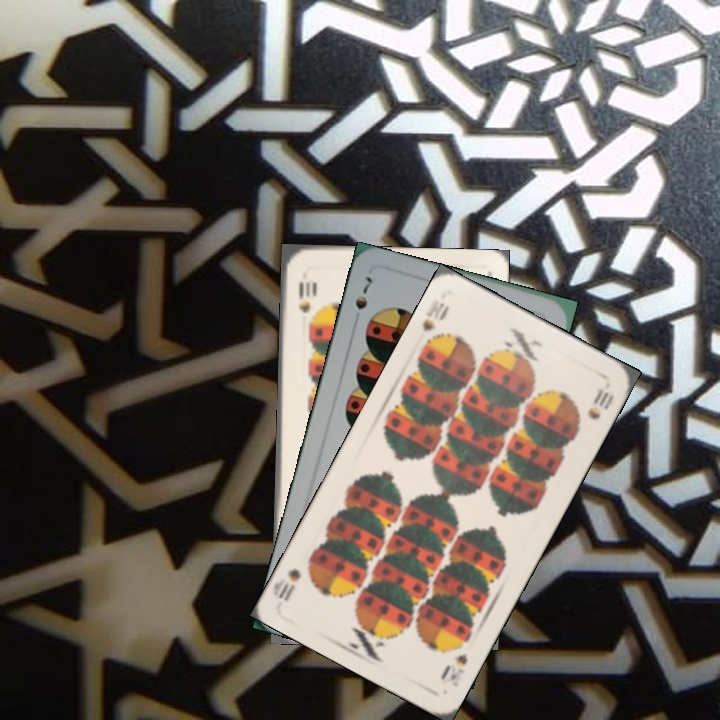S10: (417, 295, 452, 350), (446, 649, 471, 690), (295, 277, 313, 315)
S7: (348, 271, 375, 328)
